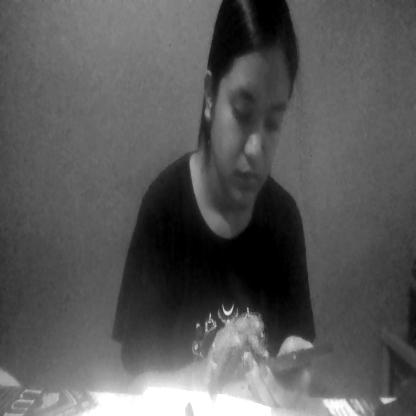Distracted: (201, 12, 287, 208)
